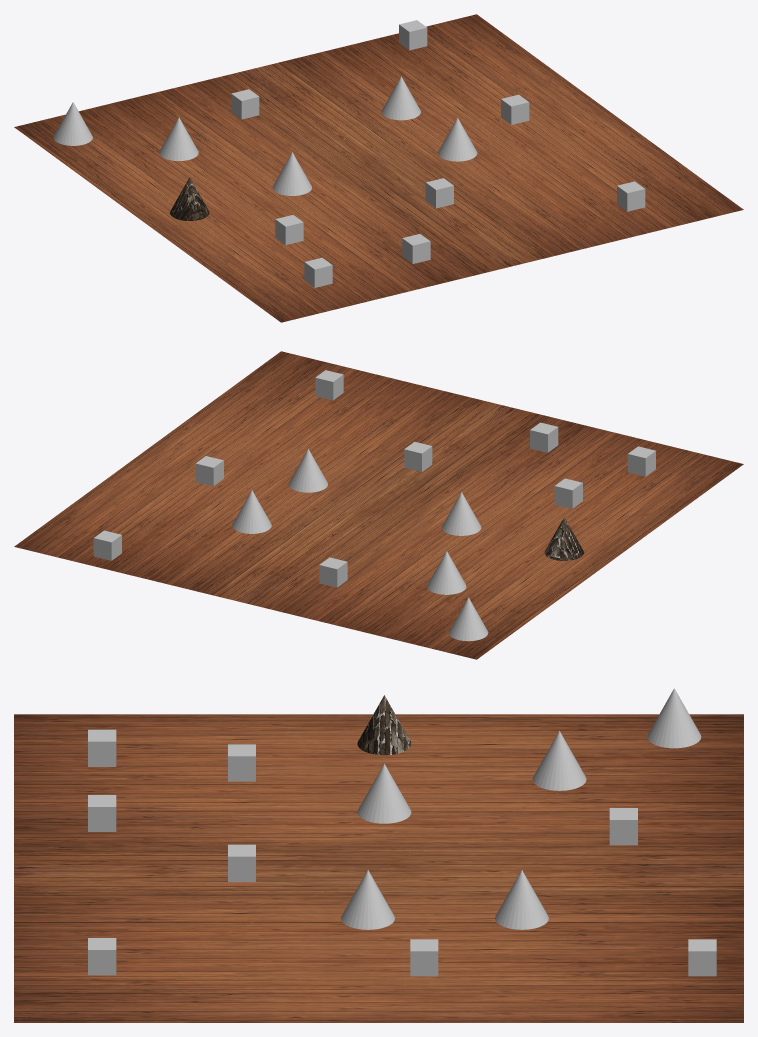
The model's file is mundo_simples_objetos.dae.
The picture shows the model from 3 angles, top to bottom: view 1: azimuth 30°, elevation 25°; view 2: azimuth 150°, elevation 25°; view 3: azimuth 270°, elevation 25°; orthographic projection. The views are drawn at different scales.
Parts seen in each view (by area): view 1: Plane, Cone.001, Cone, Cone.004, Cone.002, Cone.003, Cone.005, Cube.007, Cube.006, Cube, Cube.003, Cube.001 (+3 smaller); view 2: Plane, Cone.002, Cone.001, Cone.003, Cone.004, Cone, Cone.005, Cube.006, Cube.005, Cube.003, Cube.004, Cube.002 (+3 smaller); view 3: Plane, Cone.005, Cone.002, Cone.004, Cone.003, Cone.001, Cone, Cube.005, Cube.007, Cube.006, Cube.004, Cube.003 (+3 smaller).
Part boxes in pixels (bbox=[...]): Plane: bbox=[14, 14, 743, 322]; Cone.001: bbox=[438, 117, 477, 161]; Cone: bbox=[381, 76, 420, 120]; Cone.004: bbox=[53, 102, 92, 145]; Cone.002: bbox=[159, 117, 198, 160]; Cone.003: bbox=[170, 177, 209, 220]; Cone.005: bbox=[272, 152, 311, 195]; Cube.007: bbox=[304, 257, 332, 287]; Cube.006: bbox=[231, 89, 259, 119]; Cube: bbox=[425, 178, 453, 208]; Cube.003: bbox=[617, 181, 645, 211]; Cube.001: bbox=[402, 234, 430, 263]; Plane: bbox=[14, 351, 743, 659]; Cone.002: bbox=[427, 551, 466, 594]; Cone.001: bbox=[288, 449, 327, 492]; Cone.003: bbox=[544, 517, 583, 560]; Cone.004: bbox=[449, 597, 488, 641]; Cone: bbox=[232, 490, 271, 533]; Cone.005: bbox=[442, 492, 481, 535]; Cube.006: bbox=[319, 557, 347, 587]; Cube.005: bbox=[93, 530, 121, 560]; Cube.003: bbox=[315, 370, 343, 400]; Cube.004: bbox=[195, 456, 223, 486]; Cube.002: bbox=[554, 478, 582, 508]; Plane: bbox=[14, 714, 743, 1022]; Cone.005: bbox=[357, 764, 411, 823]; Cone.002: bbox=[532, 731, 586, 790]; Cone.004: bbox=[647, 688, 701, 748]; Cone.003: bbox=[357, 695, 411, 755]; Cone.001: bbox=[341, 870, 394, 929]; Cone: bbox=[495, 870, 548, 929]; Cube.005: bbox=[688, 939, 716, 976]; Cube.007: bbox=[88, 729, 116, 766]; Cube.006: bbox=[609, 808, 637, 845]; Cube.004: bbox=[410, 939, 438, 976]; Cube.003: bbox=[88, 938, 116, 975].
Size of the model in its own units: 19.9 by 19.9 by 1.49.
